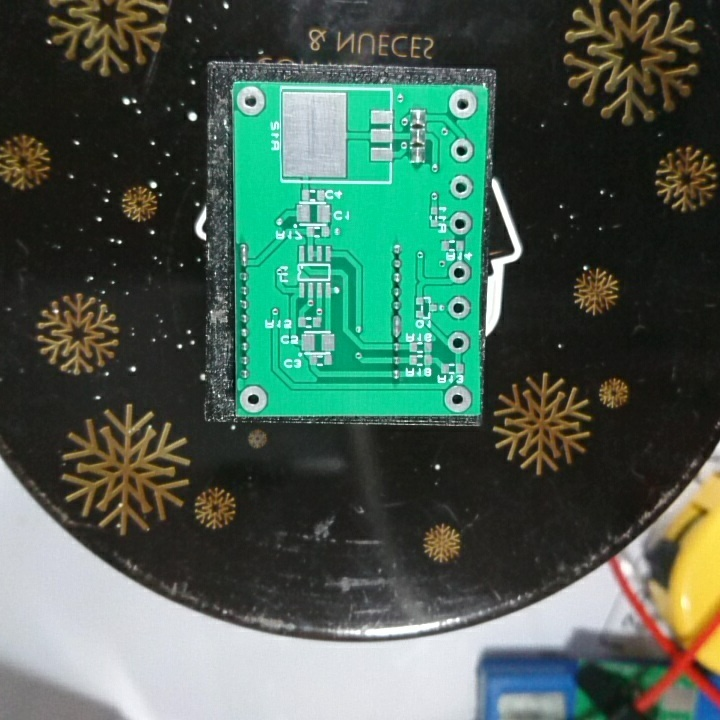F: (234, 83, 268, 119), (441, 382, 476, 413), (237, 382, 271, 412), (447, 87, 479, 118), (444, 329, 473, 357), (447, 174, 478, 200), (449, 135, 476, 164), (447, 209, 476, 236), (445, 295, 475, 320), (447, 260, 474, 286)
P: (387, 314, 405, 340), (237, 240, 253, 269)
